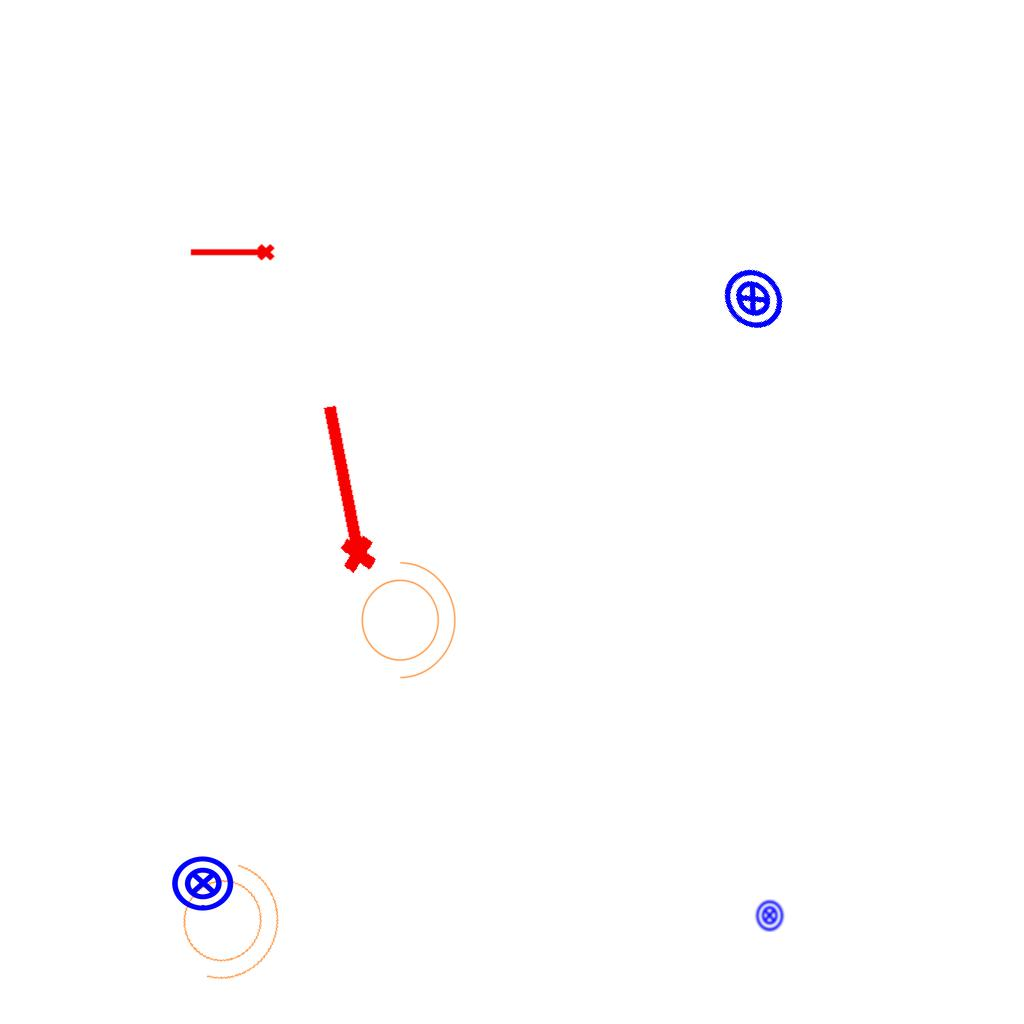ASR_Ansaugoeffnung: (303, 397, 383, 579), (188, 242, 276, 265)
Scheinwerfer_fuer_Alarmbeleuchtung: (155, 840, 301, 998), (349, 551, 461, 683)
Taster_beleuchtet: (706, 252, 800, 346), (170, 850, 236, 916), (753, 899, 786, 932)
